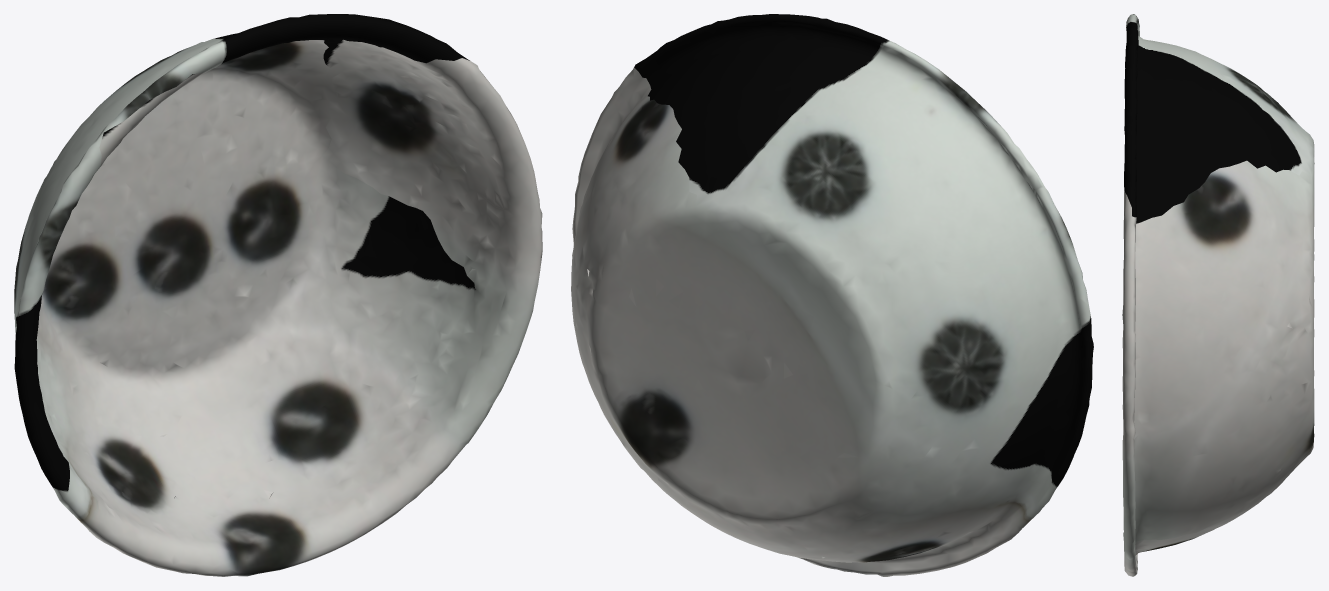
The picture shows the model from 3 angles, left to right: view 1: azimuth 30°, elevation 25°; view 2: azimuth 150°, elevation 25°; view 3: azimuth 270°, elevation 25°; orthographic projection. The views are drawn at different scales.
Parts seen in each view (by area): view 1: textured.020_textured.002; view 2: textured.020_textured.002; view 3: textured.020_textured.002.
Part boxes in pixels (x1=…): textured.020_textured.002: x1=14, y1=14, x2=542, y2=576; textured.020_textured.002: x1=571, y1=14, x2=1093, y2=576; textured.020_textured.002: x1=1122, y1=14, x2=1314, y2=576.
Size of the model in its own units: 0.1612 by 0.1615 by 0.055.
